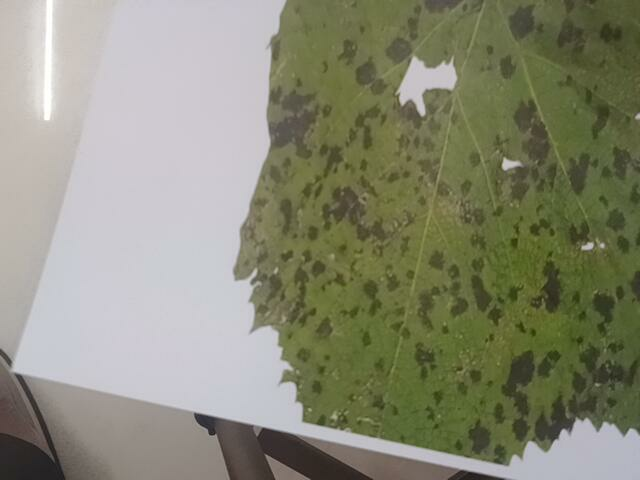Grape_Blight_Leaf: (247, 6, 627, 457)
